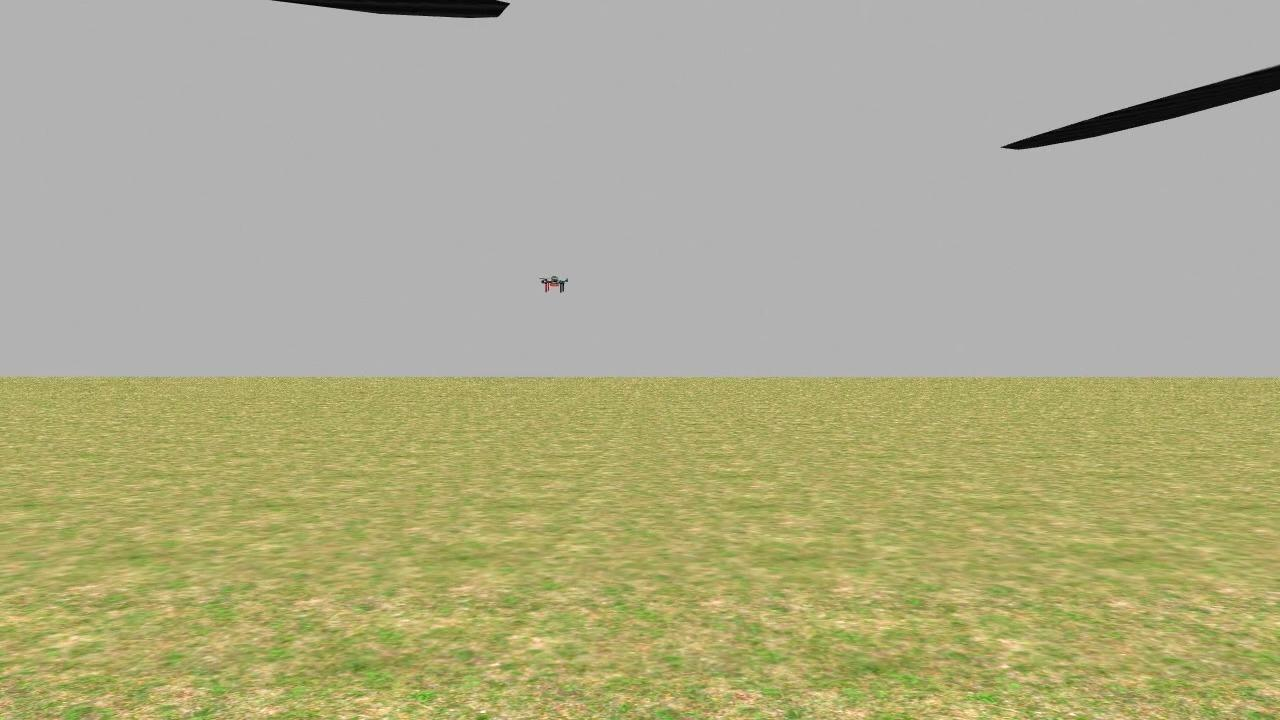UAV: (562, 267, 606, 306)
